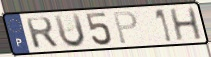1: (154, 8, 174, 43)
5: (84, 12, 114, 47)
H: (168, 6, 204, 42)
P: (112, 10, 139, 46)
R: (24, 16, 60, 50)
U: (52, 12, 87, 50)
